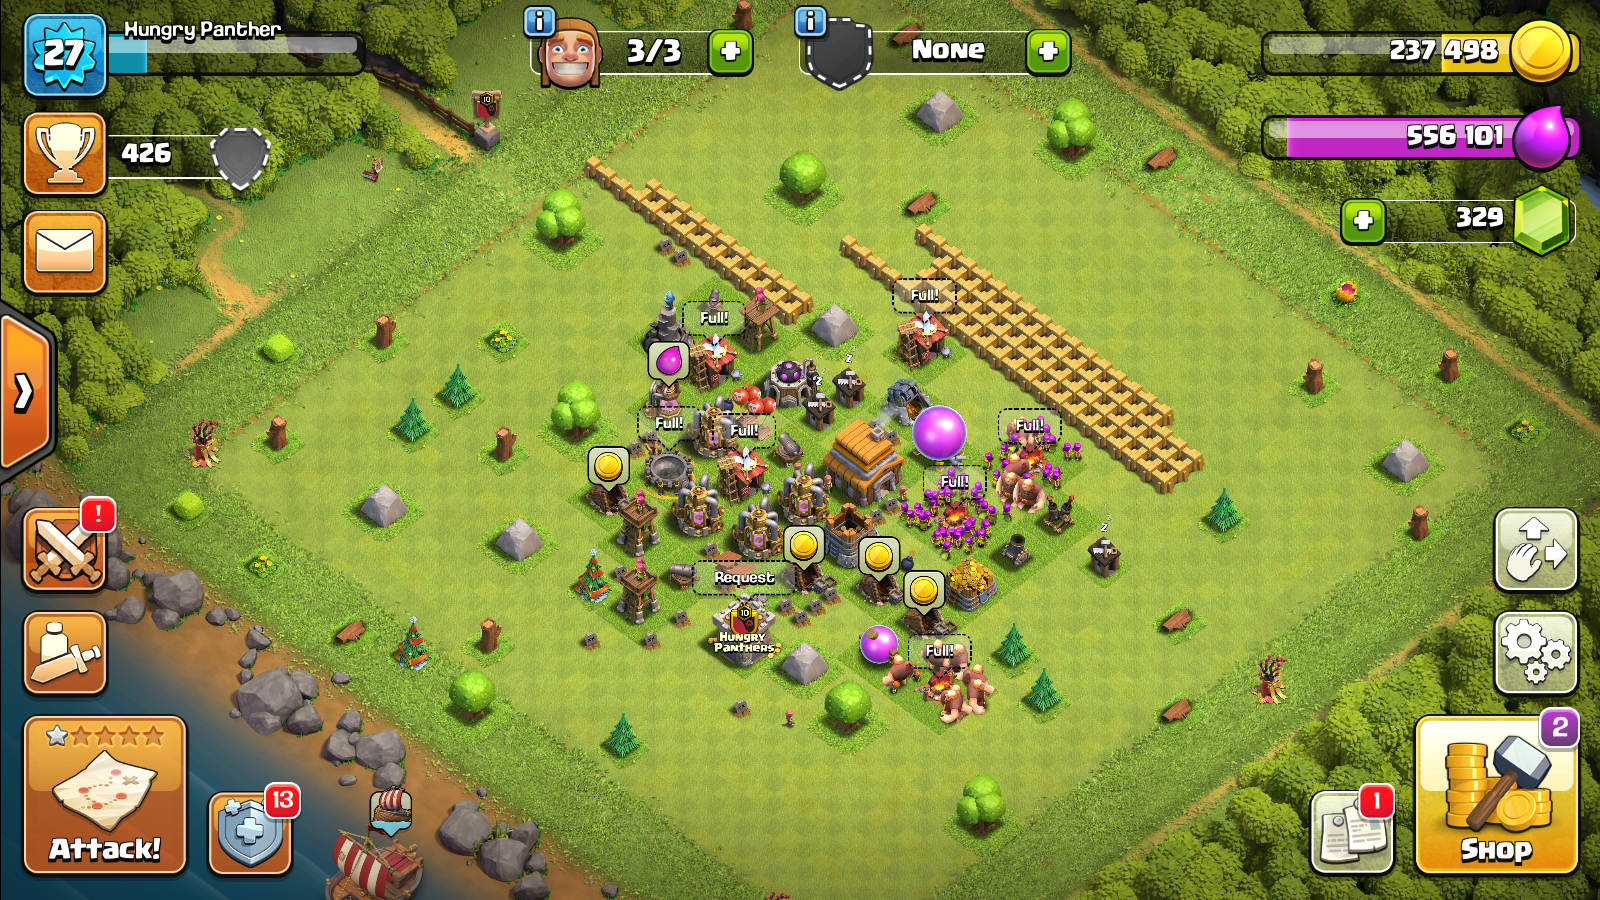elixer_collect: (647, 343, 687, 384)
